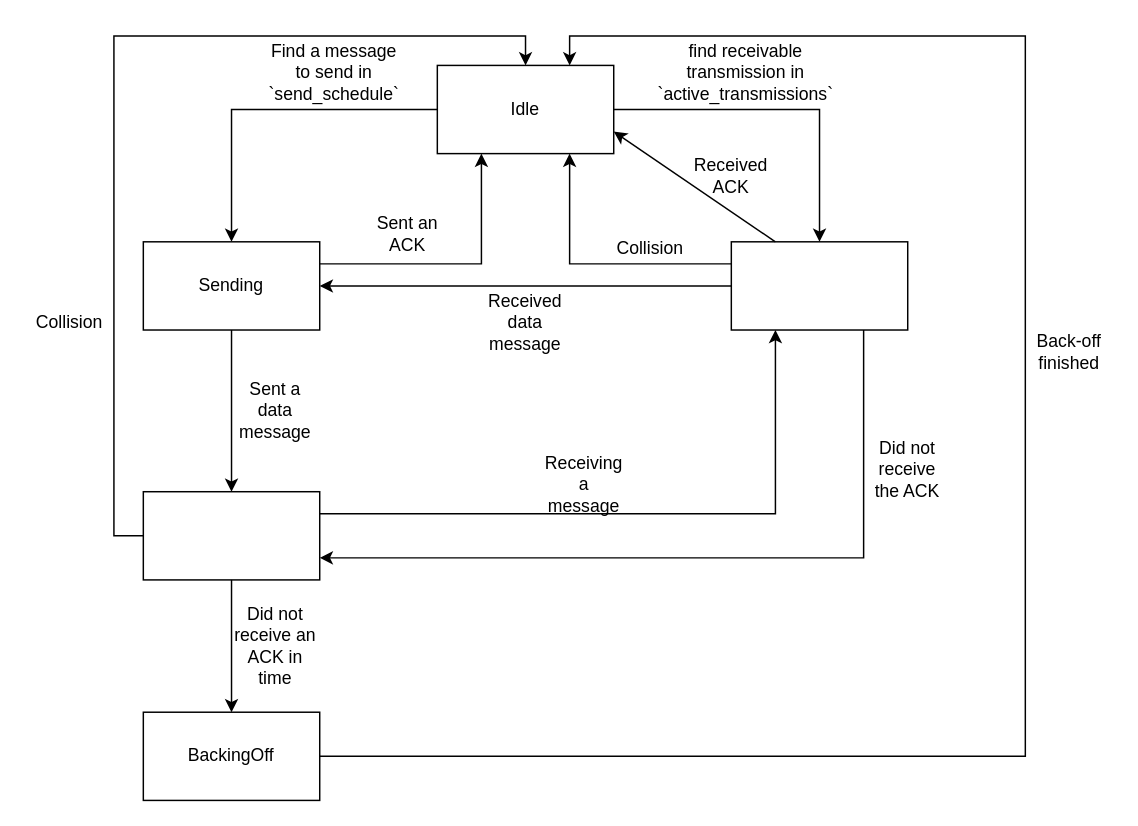
Image size: 1138x826. Some labels were removed from this diagram. Here are the shapes that lost their labels. From the top down, the centre of each, then its label:
At point 819,285: "Receiving".
At point 231,535: "WaitForAnswer".
